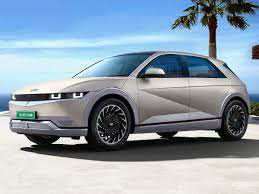Honda Ioniq: (5, 48, 252, 154)
